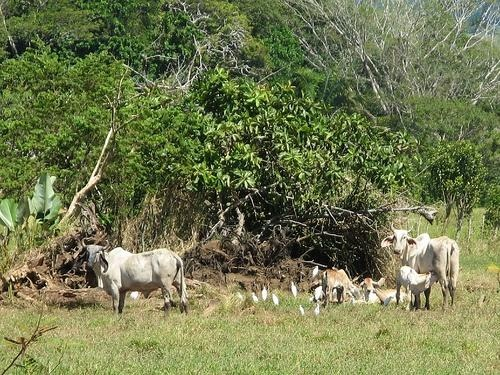bird: (288, 278, 300, 300), (231, 287, 244, 306), (313, 299, 325, 318), (298, 304, 312, 320), (313, 282, 326, 298), (309, 263, 321, 280), (270, 291, 281, 309), (250, 290, 258, 308), (262, 281, 267, 308)
cow: (79, 234, 192, 319), (382, 219, 464, 312), (395, 262, 442, 319), (321, 266, 360, 309), (355, 271, 390, 308)
